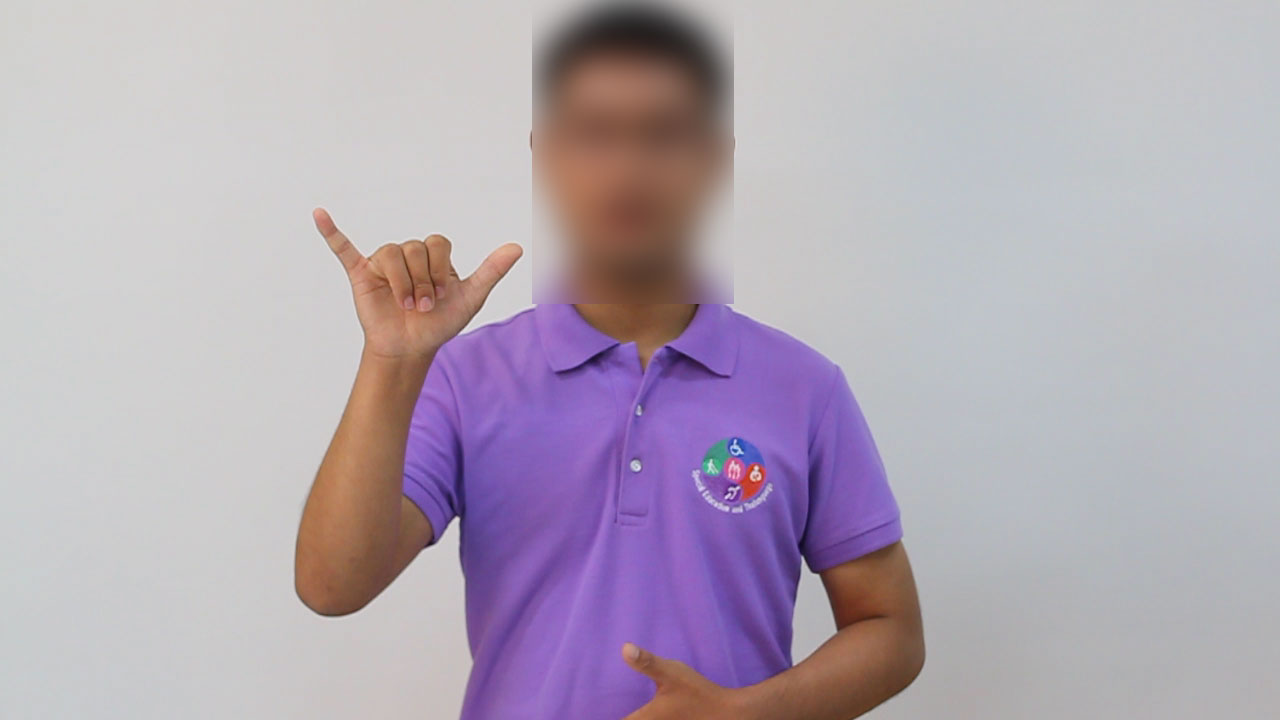yor: (299, 194, 532, 366)
